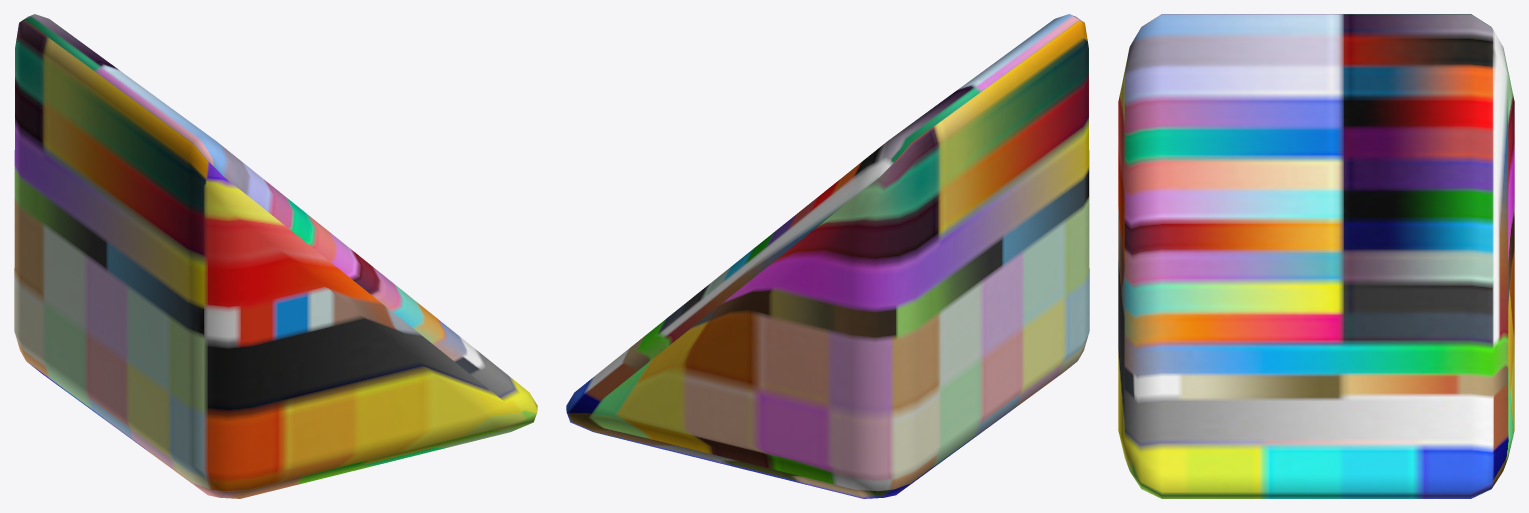
File: ShortTringle.fbx
The picture shows the model from 3 angles, left to right: view 1: azimuth 30°, elevation 25°; view 2: azimuth 150°, elevation 25°; view 3: azimuth 270°, elevation 25°; orthographic projection. The views are drawn at different scales.
Visible parts, largest first — view 1: Cube.001; view 2: Cube.001; view 3: Cube.001.
Boxes of the visible parts, x1,y1,x2,y2 form: Cube.001: [14, 14, 537, 498]; Cube.001: [566, 14, 1089, 498]; Cube.001: [1118, 14, 1514, 498].
Bounding box in the file's own units: 1.89 × 1.89 × 2.
